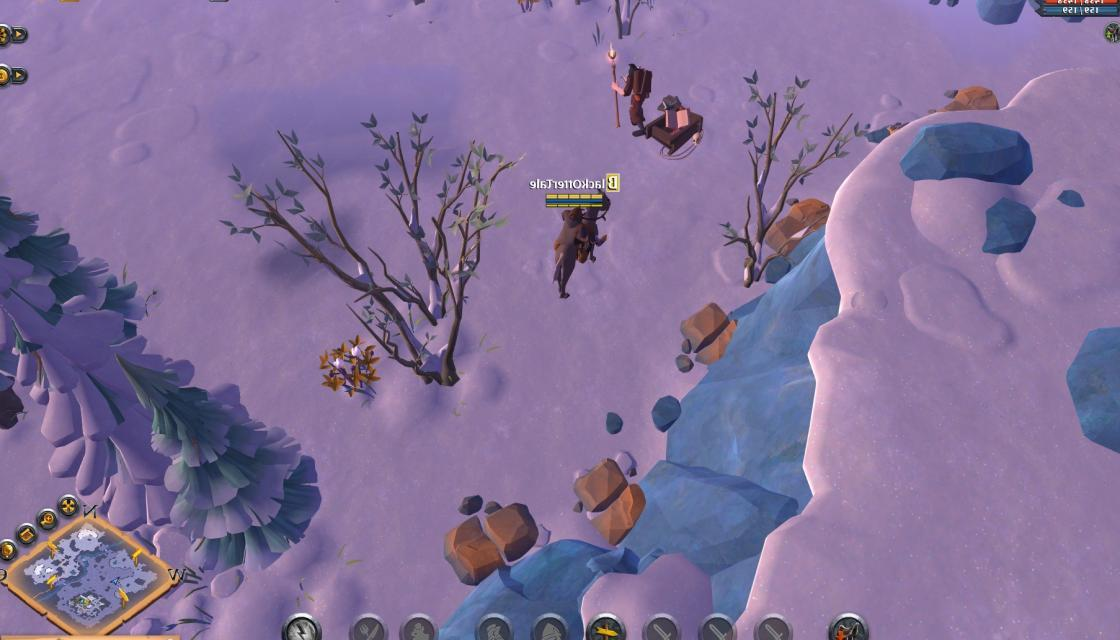limestone: (442, 496, 542, 591), (571, 456, 650, 548), (670, 296, 746, 371), (758, 194, 834, 260), (937, 81, 1006, 114)
